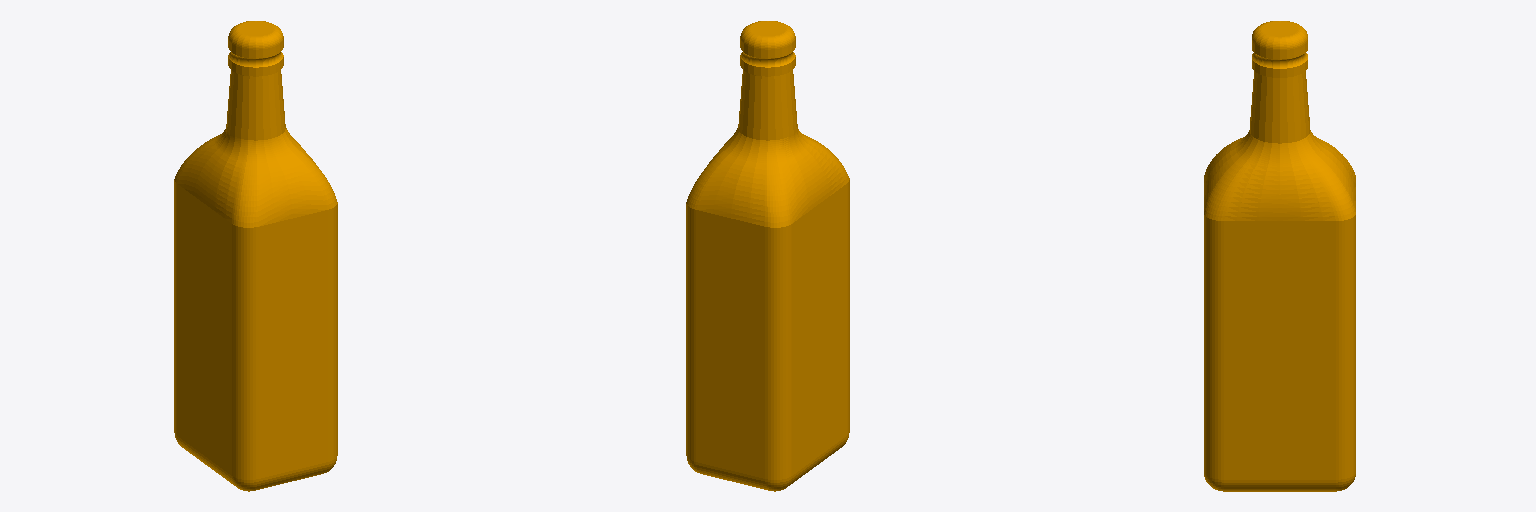
URDF robot description (mustard_bottle):
<?xml version="1.0" ?>
<robot name="mustard_bottle">

  <link name="base_link">
    <visual>
      <geometry>
        <mesh filename="bottle.obj" scale="1 1 1"/>
      </geometry>
    </visual>

    <collision>
      <geometry>
        <mesh filename="bottle.obj" scale="1 1 1"/>
      </geometry>
    </collision>

    <inertial>
      <mass value="1.0"/>
      <origin xyz="0 0 -0.05" rpy="0 0 0"/>
      <inertia
        ixx="0.01" ixy="0.0" ixz="0.0"
        iyy="0.01" iyz="0.0"
        izz="0.01"/>
    </inertial>
  </link>

</robot>

--- What the picture shows (computed from the rendered views, not written in the file) ---
The picture shows the robot from 3 angles, left to right: view 1: azimuth 30°, elevation 25°; view 2: azimuth 150°, elevation 25°; view 3: azimuth 270°, elevation 25°; orthographic projection.
Model mustard_bottle with 1 links and 0 joints (none), rooted at base_link, posed all joints at 0.
Links seen in each view (by area): view 1: base_link; view 2: base_link; view 3: base_link.
Link boxes in pixels (bbox=[...]): base_link: bbox=[174, 21, 337, 491]; base_link: bbox=[686, 21, 849, 491]; base_link: bbox=[1204, 21, 1355, 491].
Bounding box of the posed robot: 0.0677 × 0.0846 × 0.2707 m (x, y, z).
1 mesh visuals loaded from 1 distinct referenced files (1 OBJ).